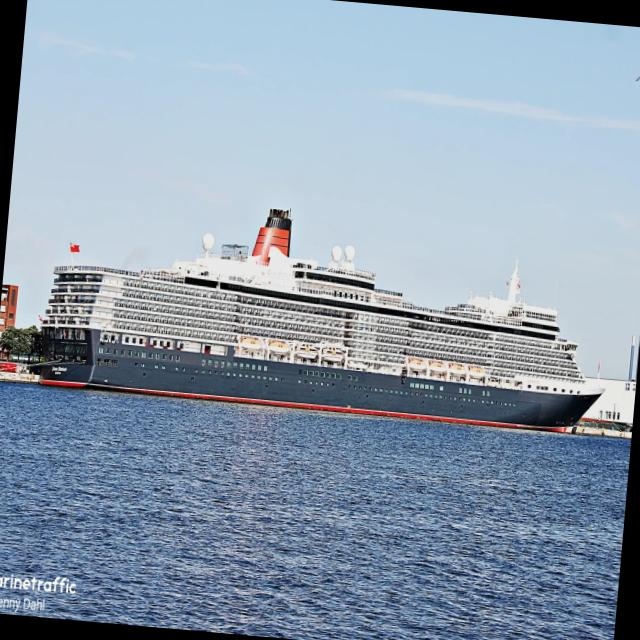Cruise: (31, 208, 603, 431)
